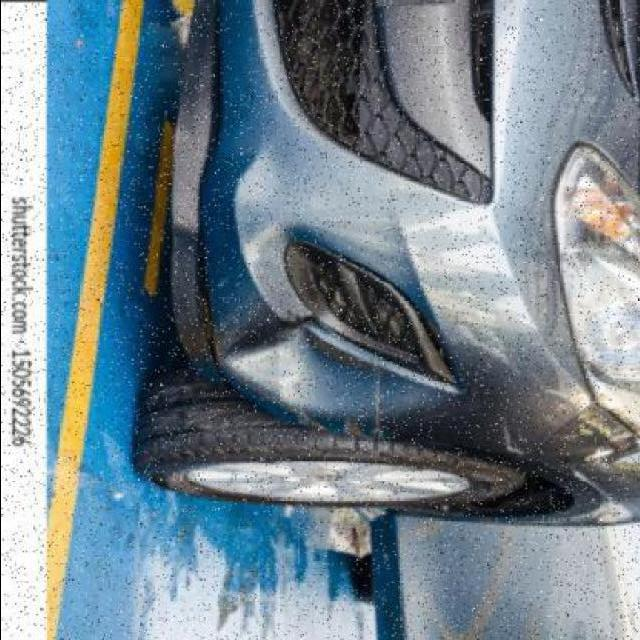front-bumper-dent: (194, 1, 473, 445)
